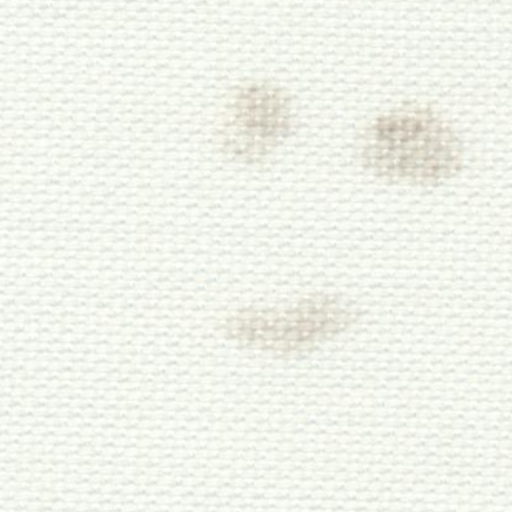WuZi: (353, 80, 472, 206), (224, 270, 377, 366), (206, 50, 309, 176)
